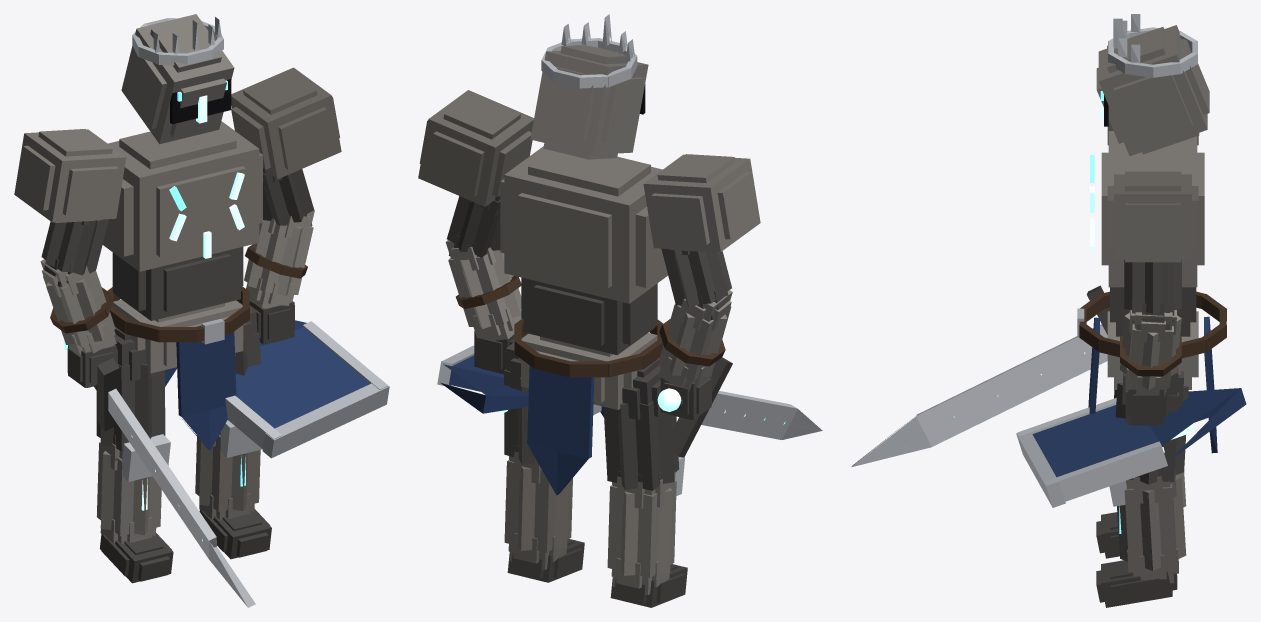
The picture shows the model from 3 angles, left to right: view 1: azimuth 30°, elevation 25°; view 2: azimuth 150°, elevation 25°; view 3: azimuth 270°, elevation 25°; orthographic projection. The views are drawn at different scales.
Visible parts, largest first — view 1: RuneKnight; view 2: RuneKnight; view 3: RuneKnight.
Part boxes in pixels (x1,y1,x2,y2): RuneKnight: (14, 14, 389, 607); RuneKnight: (418, 14, 822, 607); RuneKnight: (851, 14, 1246, 607).
Bounding box in the file's own units: 0.8777 × 1.47 × 0.9483.
